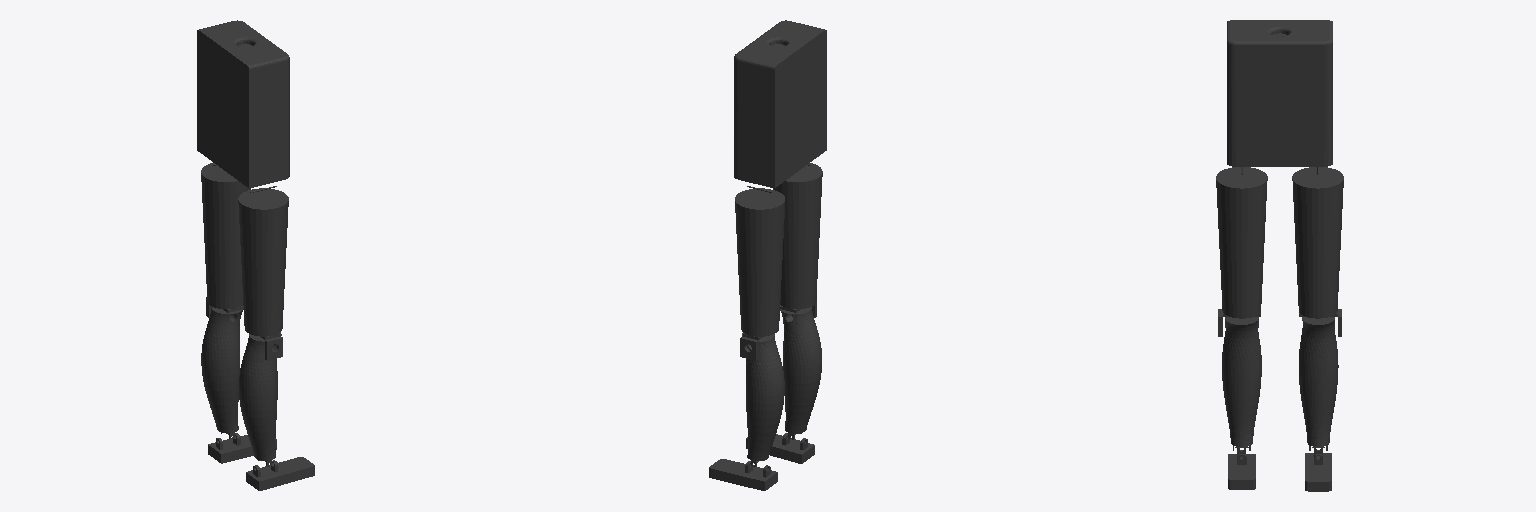
URDF robot description (BwRobot):
<?xml version="1.0" encoding="utf-8"?>
<!-- This URDF was automatically created by SolidWorks to URDF Exporter! Originally created by [author] ([email redacted]) 
     Commit Version: 1.6.0-4-g7f85cfe  Build Version: 1.6.7995.38578
     For more information, please see http://wiki.ros.org/sw_urdf_exporter -->
<robot
  name="BwRobot">
  <link
    name="base_link">
    <inertial>
      <origin
        xyz="-1.6653E-16 -2.2204E-16 -4.4409E-16"
        rpy="0 0 0" />
      <mass
        value="34.943" />
      <inertia
        ixx="0.93854"
        ixy="6.9389E-17"
        ixz="0.00014521"
        iyy="0.66907"
        iyz="-1.3878E-16"
        izz="0.43648" />
    </inertial>
    <visual>
      <origin
        xyz="0 0 0"
        rpy="0 0 0" />
      <geometry>
        <mesh
          filename="../meshes/base_link.STL" />
      </geometry>
      <material
        name="">
        <color
          rgba="0.29804 0.29804 0.29804 1" />
      </material>
    </visual>
    <!-- <collision>
      <origin
        xyz="0 0. -0.1"
        rpy="0 0 0" />
      <geometry>
        <box size="0.2 0.2 0.2"/>
      </geometry>
    </collision> -->

<collision>
      <origin
        xyz="0 0 0"
        rpy="0 0 0" />
      <geometry>
        <mesh
          filename="../meshes/base_link.STL" />
      </geometry>
    </collision> 
  </link>
  <link
    name="left_leg_pitch_link">
    <inertial>
      <origin
        xyz="0 0 0"
        rpy="0 0 0" />
      <mass
        value="0.0015536" />
      <inertia
        ixx="4.6849E-07"
        ixy="2.9959E-23"
        ixz="9.2644E-23"
        iyy="4.8549E-09"
        iyz="-3.1195E-22"
        izz="4.6849E-07" />
    </inertial>
    <visual>
      <origin
        xyz="0 0 0"
        rpy="0 0 0" />
      <geometry>
        <mesh
          filename="../meshes/left_leg_pitch_link.STL" />
      </geometry>
      <material
        name="">
        <color
          rgba="0.29804 0.29804 0.29804 1" />
      </material>
    </visual>

<collision>
      <origin
        xyz="0 0 0"
        rpy="0 0 0" />
      <geometry>
        <mesh
          filename="../meshes/left_leg_pitch_link.STL" />
      </geometry>
    </collision> 

  </link>
  <joint
    name="left_leg_pitch_joint"
    type="revolute">
    <origin
      xyz="0.035547 0.125 -0.23462"
      rpy="0 0 0" />
    <parent
      link="base_link" />
    <child
      link="left_leg_pitch_link" />
    <axis
      xyz="0 1 0" />
    <limit
      lower="-1.57"
      upper="1.31"
      effort="300"
      velocity="40" />
    <dynamics
      damping="0.001"
      friction="0.001" />
    <safety_controller
      k_position="0.5"
      k_velocity="1" />
  </joint>
  <link
    name="left_leg_roll_link">
    <inertial>
      <origin
        xyz="-5.5511E-17 0 0"
        rpy="0 0 0" />
      <mass
        value="0.0025893" />
      <inertia
        ixx="8.0914E-09"
        ixy="2.7943E-22"
        ixz="4.9569E-22"
        iyy="2.1618E-06"
        iyz="-5.294E-23"
        izz="2.1618E-06" />
    </inertial>
    <visual>
      <origin
        xyz="0 0 0"
        rpy="0 0 0" />
      <geometry>
        <mesh
          filename="../meshes/left_leg_roll_link.STL" />
      </geometry>
      <material
        name="">
        <color
          rgba="0.29804 0.29804 0.29804 1" />
      </material>
    </visual>

<collision>
      <origin
        xyz="0 0 0"
        rpy="0 0 0" />
      <geometry>
        <mesh
          filename="../meshes/left_leg_roll_link.STL" />
      </geometry>
    </collision> 
  </link>
  <joint
    name="left_leg_roll_joint"
    type="revolute">
    <origin
      xyz="-0.035 0 -0.033287"
      rpy="0 0 0" />
    <parent
      link="left_leg_pitch_link" />
    <child
      link="left_leg_roll_link" />
    <axis
      xyz="1 0 0" />
    <limit
      lower="-0.5236"
      upper="2.9671"
      effort="200"
      velocity="40" />
    <dynamics
      damping="0.001"
      friction="0.001" />
  </joint>
  <link
    name="left_leg_yaw_link">
    <inertial>
      <origin
        xyz="-2.58450629619933E-07 0.000472758315156585 -0.231792713901149"
        rpy="0 0 0" />
      <mass
        value="11.2473004285205" />
      <inertia
        ixx="0.231394540275476"
        ixy="-9.20882395512301E-09"
        ixz="-4.2241790727468E-07"
        iyy="0.231316034581791"
        iyz="-1.13613894258714E-07"
        izz="0.0318374304605511" />
    </inertial>
    <visual>
      <origin
        xyz="0 0 0"
        rpy="0 0 0" />
      <geometry>
        <mesh
          filename="../meshes/left_leg_yaw_link.STL" />
      </geometry>
      <material
        name="">
        <color
          rgba="0.298039215686275 0.298039215686275 0.298039215686275 1" />
      </material>
    </visual>
<collision>
      <origin
        xyz="0 0 0"
        rpy="0 0 0" />
      <geometry>
        <mesh
          filename="../meshes/left_leg_yaw_link.STL" />
      </geometry>
    </collision> 
  </link>
  <joint
    name="left_leg_yaw_joint"
    type="revolute">
    <origin
      xyz="0 0 -0.025"
      rpy="0 0 0" />
    <parent
      link="left_leg_roll_link" />
    <child
      link="left_leg_yaw_link" />
    <axis
      xyz="0 0 1" />
    <limit
      lower="-2.7576"
      upper="2.7576"
      effort="200"
      velocity="40" />
    <dynamics
      damping="0.001"
      friction="0.001" />
  </joint>
  <link
    name="left_knee_link">
    <inertial>
      <origin
        xyz="-0.0139131252142454 -0.0488845950511706 -0.187792124098217"
        rpy="0 0 0" />
      <mass
        value="5.76539951970926" />
      <inertia
        ixx="0.0776042634878248"
        ixy="7.32271406822735E-05"
        ixz="0.000652002707951832"
        iyy="0.0771567272566777"
        iyz="-0.00746913653561562"
        izz="0.0110322896952923" />
    </inertial>
    <visual>
      <origin
        xyz="0 0 0"
        rpy="0 0 0" />
      <geometry>
        <mesh
          filename="../meshes/left_knee_link.STL" />
      </geometry>
      <material
        name="">
        <color
          rgba="0.298039215686275 0.298039215686275 0.298039215686275 1" />
      </material>
    </visual>
<collision>
      <origin
        xyz="0 0 0"
        rpy="0 0 0" />
      <geometry>
        <mesh
          filename="../meshes/left_knee_link.STL" />
      </geometry>
    </collision> 
  </link>
  <joint
    name="left_knee_joint"
    type="revolute">
    <origin
      xyz="0 0.028992 -0.53"
      rpy="0.11075 0 0" />
    <parent
      link="left_leg_yaw_link" />
    <child
      link="left_knee_link" />
    <axis
      xyz="0 1 0" />
    <limit
      lower="-0.01"
      upper="1"
      effort="200"
      velocity="40" />
    <dynamics
      damping="0.001"
      friction="0.001" />
  </joint>
  <link
    name="left_ankle_pitch_link">
    <inertial>
      <origin
        xyz="1.11022302462516E-16 -1.11022302462516E-16 4.44089209850063E-16"
        rpy="0 0 0" />
      <mass
        value="0.00116516762783124" />
      <inertia
        ixx="1.98442611615009E-07"
        ixy="-4.40473676184487E-23"
        ixz="-1.32348898008484E-23"
        iyy="3.6411488369726E-09"
        iyz="-2.09380092552485E-22"
        izz="1.98442611615009E-07" />
    </inertial>
    <visual>
      <origin
        xyz="0 0 0"
        rpy="0 0 0" />
      <geometry>
        <mesh
          filename="../meshes/left_ankle_pitch_link.STL" />
      </geometry>
      <material
        name="">
        <color
          rgba="0.298039215686275 0.298039215686275 0.298039215686275 1" />
      </material>
    </visual>
<collision>
      <origin
        xyz="0 0 0"
        rpy="0 0 0" />
      <geometry>
        <mesh
          filename="../meshes/left_ankle_pitch_link.STL" />
      </geometry>
    </collision> 
  </link>
  <joint
    name="left_ankle_pitch_joint"
    type="revolute">
    <origin
      xyz="0.0068228 -0.077612 -0.44598"
      rpy="-0.11075 0 0" />
    <parent
      link="left_knee_link" />
    <child
      link="left_ankle_pitch_link" />
    <axis
      xyz="0 1 0" />
    <limit
      lower="-0.87267"
      upper="0.5236"
      effort="100"
      velocity="40" />
    <dynamics
      damping="0.001"
      friction="0.001" />
  </joint>
  <link
    name="left_ankle_roll_link">
    <inertial>
      <origin
        xyz="0.0563513600563672 8.21845006837574E-06 -0.0421045472436443"
        rpy="0 0 0" />
      <mass
        value="0.963959688128522" />
      <inertia
        ixx="0.000764646598926509"
        ixy="1.72829201773262E-07"
        ixz="4.59199794656664E-05"
        iyy="0.00400549261717651"
        iyz="-2.69153855232706E-07"
        izz="0.00450681920337097" />
    </inertial>
    <visual>
      <origin
        xyz="0 0 0"
        rpy="0 0 0" />
      <geometry>
        <mesh
          filename="../meshes/left_ankle_roll_link.STL" />
      </geometry>
      <material
        name="">
        <color
          rgba="0.298039215686275 0.298039215686275 0.298039215686275 1" />
      </material>
    </visual>
    <collision>
      <origin
        xyz="0 0 0"
        rpy="0 0 0" />
      <geometry>
        <mesh
          filename="../meshes/left_ankle_roll_link.STL" />
      </geometry>
    </collision>
  </link>
  <joint
    name="left_ankle_roll_joint"
    type="revolute">
    <origin
      xyz="0 0 -0.02"
      rpy="0 0 0" />
    <parent
      link="left_ankle_pitch_link" />
    <child
      link="left_ankle_roll_link" />
    <axis
      xyz="1 0 0" />
    <limit
      lower="-0.2618"
      upper="0.2618"
      effort="100"
      velocity="40" />
    <dynamics
      damping="0.001"
      friction="0.001" />
  </joint>
  <link
    name="right_leg_pitch_link">
    <inertial>
      <origin
        xyz="5.5511E-17 3.3307E-16 4.4409E-16"
        rpy="0 0 0" />
      <mass
        value="0.0015536" />
      <inertia
        ixx="4.6849E-07"
        ixy="-1.2025E-22"
        ixz="-1.9852E-23"
        iyy="4.8549E-09"
        iyz="2.131E-22"
        izz="4.6849E-07" />
    </inertial>
    <visual>
      <origin
        xyz="0 0 0"
        rpy="0 0 0" />
      <geometry>
        <mesh
          filename="../meshes/right_leg_pitch_link.STL" />
      </geometry>
      <material
        name="">
        <color
          rgba="0.29804 0.29804 0.29804 1" />
      </material>
    </visual>
<collision>
      <origin
        xyz="0 0 0"
        rpy="0 0 0" />
      <geometry>
        <mesh
          filename="../meshes/right_leg_pitch_link.STL" />
      </geometry>
    </collision> 
  </link>
  <joint
    name="right_leg_pitch_joint"
    type="revolute">
    <origin
      xyz="0.0055475 -0.125 -0.23462"
      rpy="0 0 0" />
    <parent
      link="base_link" />
    <child
      link="right_leg_pitch_link" />
    <axis
      xyz="0 1 0" />
    <limit
      lower="-1.57"
      upper="1.31"
      effort="300"
      velocity="32" />
    <dynamics
      damping="0.001"
      friction="0.001" />
  </joint>
  <link
    name="right_leg_roll_link">
    <inertial>
      <origin
        xyz="-5.5511E-17 1.1102E-16 -4.4409E-16"
        rpy="0 0 0" />
      <mass
        value="0.0025893" />
      <inertia
        ixx="8.0914E-09"
        ixy="-8.4042E-22"
        ixz="8.309E-22"
        iyy="2.1618E-06"
        iyz="-1.0588E-22"
        izz="2.1618E-06" />
    </inertial>
    <visual>
      <origin
        xyz="0 0 0"
        rpy="0 0 0" />
      <geometry>
        <mesh
          filename="../meshes/right_leg_roll_link.STL" />
      </geometry>
      <material
        name="">
        <color
          rgba="0.29804 0.29804 0.29804 1" />
      </material>
    </visual>
<collision>
      <origin
        xyz="0 0 0"
        rpy="0 0 0" />
      <geometry>
        <mesh
          filename="../meshes/right_leg_roll_link.STL" />
      </geometry>
    </collision> 
  </link>
  <joint
    name="right_leg_roll_joint"
    type="revolute">
    <origin
      xyz="-0.005 0 -0.033287"
      rpy="0 0 0" />
    <parent
      link="right_leg_pitch_link" />
    <child
      link="right_leg_roll_link" />
    <axis
      xyz="1 0 0" />
    <limit
      lower="-2.9671"
      upper="0.5236"
      effort="200"
      velocity="20" />
    <dynamics
      damping="0.001"
      friction="0.001" />
  </joint>
  <link
    name="right_leg_yaw_link">
    <inertial>
      <origin
        xyz="-2.5811E-07 -0.00049538 -0.24187"
        rpy="0 0 0" />
      <mass
        value="11.25" />
      <inertia
        ixx="0.23129"
        ixy="-1.3204E-08"
        ixz="-4.2184E-07"
        iyy="0.23122"
        iyz="-1.145E-07"
        izz="0.031833" />
    </inertial>
    <visual>
      <origin
        xyz="0 0 0"
        rpy="0 0 0" />
      <geometry>
        <mesh
          filename="../meshes/right_leg_yaw_link.STL" />
      </geometry>
      <material
        name="">
        <color
          rgba="0.29804 0.29804 0.29804 1" />
      </material>
    </visual>
<collision>
      <origin
        xyz="0 0 0"
        rpy="0 0 0" />
      <geometry>
        <mesh
          filename="../meshes/right_leg_yaw_link.STL" />
      </geometry>
    </collision> 
  </link>
  <joint
    name="right_leg_yaw_joint"
    type="revolute">
    <origin
      xyz="0 0 -0.015"
      rpy="0 0 0" />
    <parent
      link="right_leg_roll_link" />
    <child
      link="right_leg_yaw_link" />
    <axis
      xyz="0 0 1" />
    <limit
      lower="-2.7576"
      upper="2.7576"
      effort="200"
      velocity="12" />
    <dynamics
      damping="0.001"
      friction="0.001" />
  </joint>
  <link
    name="right_knee_link">
    <inertial>
      <origin
        xyz="-0.01391 0.013002 -0.19199"
        rpy="0 0 0" />
      <mass
        value="5.767" />
      <inertia
        ixx="0.077666"
        ixy="1.7619E-06"
        ixz="0.00065242"
        iyy="0.078048"
        iyz="-7.4123E-06"
        izz="0.010204" />
    </inertial>
    <visual>
      <origin
        xyz="0 0 0"
        rpy="0 0 0" />
      <geometry>
        <mesh
          filename="../meshes/right_knee_link.STL" />
      </geometry>
      <material
        name="">
        <color
          rgba="0.29804 0.29804 0.29804 1" />
      </material>
    </visual>
<collision>
      <origin
        xyz="0 0 0"
        rpy="0 0 0" />
      <geometry>
        <mesh
          filename="../meshes/right_knee_link.STL" />
      </geometry>
    </collision> 
  </link>
  <joint
    name="right_knee_joint"
    type="revolute">
    <origin
      xyz="0 -0.012823 -0.54"
      rpy="0 0 0" />
    <parent
      link="right_leg_yaw_link" />
    <child
      link="right_knee_link" />
    <axis
      xyz="0 1 0" />
    <limit
      lower="-0.01"
      upper="1"
      effort="200"
      velocity="20" />
    <dynamics
      damping="0.001"
      friction="0.001" />
  </joint>
  <link
    name="right_ankle_pitch_link">
    <inertial>
      <origin
        xyz="0 0 0"
        rpy="0 0 0" />
      <mass
        value="0.0011652" />
      <inertia
        ixx="1.9844E-07"
        ixy="-2.9192E-22"
        ixz="0"
        iyy="3.6411E-09"
        iyz="3.7523E-22"
        izz="1.9844E-07" />
    </inertial>
    <visual>
      <origin
        xyz="0 0 0"
        rpy="0 0 0" />
      <geometry>
        <mesh
          filename="../meshes/right_ankle_pitch_link.STL" />
      </geometry>
      <material
        name="">
        <color
          rgba="0.29804 0.29804 0.29804 1" />
      </material>
    </visual>
<collision>
      <origin
        xyz="0 0 0"
        rpy="0 0 0" />
      <geometry>
        <mesh
          filename="../meshes/right_ankle_pitch_link.STL" />
      </geometry>
    </collision> 
  </link>
  <joint
    name="right_ankle_pitch_joint"
    type="revolute">
    <origin
      xyz="0.0068228 0.013 -0.45183"
      rpy="0 0 0" />
    <parent
      link="right_knee_link" />
    <child
      link="right_ankle_pitch_link" />
    <axis
      xyz="0 1 0" />
    <limit
      lower="-0.87267"
      upper="0.7"
      effort="100"
      velocity="40" />
    <dynamics
      damping="0.001"
      friction="0.001" />
  </joint>
  <link
    name="right_ankle_roll_link">
    <inertial>
      <origin
        xyz="0.057874 8.2185E-06 -0.039986"
        rpy="0 0 0" />
      <mass
        value="0.96396" />
      <inertia
        ixx="0.00076639"
        ixy="1.8269E-07"
        ixz="-9.2855E-05"
        iyy="0.0040055"
        iyz="-2.6256E-07"
        izz="0.0045051" />
    </inertial>
    <visual>
      <origin
        xyz="0 0 0"
        rpy="0 0 0" />
      <geometry>
        <mesh
          filename="../meshes/right_ankle_roll_link.STL" />
      </geometry>
      <material
        name="">
        <color
          rgba="0.29804 0.29804 0.29804 1" />
      </material>
    </visual>
    <collision>
      <origin
        xyz="0 0 0"
        rpy="0 0 0" />
      <geometry>
        <mesh
          filename="../meshes/right_ankle_roll_link.STL" />
      </geometry>
    </collision>
  </link>
  <joint
    name="right_ankle_roll_joint"
    type="revolute">
    <origin
      xyz="0.00074152 0 -0.019986"
      rpy="0 0 0" />
    <parent
      link="right_ankle_pitch_link" />
    <child
      link="right_ankle_roll_link" />
    <axis
      xyz="1 0 0.0" />
    <limit
      lower="-0.2618"
      upper="0.2618"
      effort="200"
      velocity="40" />
    <dynamics
      damping="0.001"
      friction="0.001" />
  </joint>
</robot>

--- What the picture shows (computed from the rendered views, not written in the file) ---
The picture shows the robot from 3 angles, left to right: view 1: azimuth 30°, elevation 25°; view 2: azimuth 150°, elevation 25°; view 3: azimuth 270°, elevation 25°; orthographic projection.
Model BwRobot with 13 links and 12 joints (12 revolute), rooted at base_link, posed every joint at zero.
Visible links, largest first — view 1: base_link, right_leg_yaw_link, left_leg_yaw_link, left_knee_link, right_knee_link, right_ankle_roll_link, left_ankle_roll_link; view 2: base_link, left_leg_yaw_link, right_leg_yaw_link, right_knee_link, left_knee_link, left_ankle_roll_link, right_ankle_roll_link; view 3: base_link, right_leg_yaw_link, left_leg_yaw_link, right_knee_link, left_knee_link, left_ankle_roll_link, right_ankle_roll_link.
Boxes of the visible links, x1=… form: base_link: x1=197, y1=20, x2=289, y2=188; right_leg_yaw_link: x1=238, y1=188, x2=288, y2=360; left_leg_yaw_link: x1=201, y1=163, x2=250, y2=317; left_knee_link: x1=201, y1=307, x2=243, y2=438; right_knee_link: x1=239, y1=332, x2=281, y2=466; right_ankle_roll_link: x1=246, y1=457, x2=314, y2=490; left_ankle_roll_link: x1=208, y1=433, x2=276, y2=463; base_link: x1=734, y1=20, x2=826, y2=188; left_leg_yaw_link: x1=735, y1=188, x2=784, y2=360; right_leg_yaw_link: x1=773, y1=163, x2=822, y2=317; right_knee_link: x1=780, y1=305, x2=821, y2=439; left_knee_link: x1=742, y1=333, x2=784, y2=466; left_ankle_roll_link: x1=709, y1=459, x2=777, y2=490; right_ankle_roll_link: x1=746, y1=433, x2=814, y2=463; base_link: x1=1227, y1=20, x2=1332, y2=166; right_leg_yaw_link: x1=1216, y1=167, x2=1267, y2=336; left_leg_yaw_link: x1=1292, y1=167, x2=1343, y2=336; right_knee_link: x1=1222, y1=317, x2=1261, y2=450; left_knee_link: x1=1299, y1=317, x2=1338, y2=450; left_ankle_roll_link: x1=1305, y1=448, x2=1331, y2=491; right_ankle_roll_link: x1=1228, y1=448, x2=1255, y2=489.
Bounding box of the posed robot: 0.264 × 0.4188 × 1.58 m (x, y, z).
Meshes: 13 distinct files referenced, 13 mesh visuals loaded (13 binary STL).
